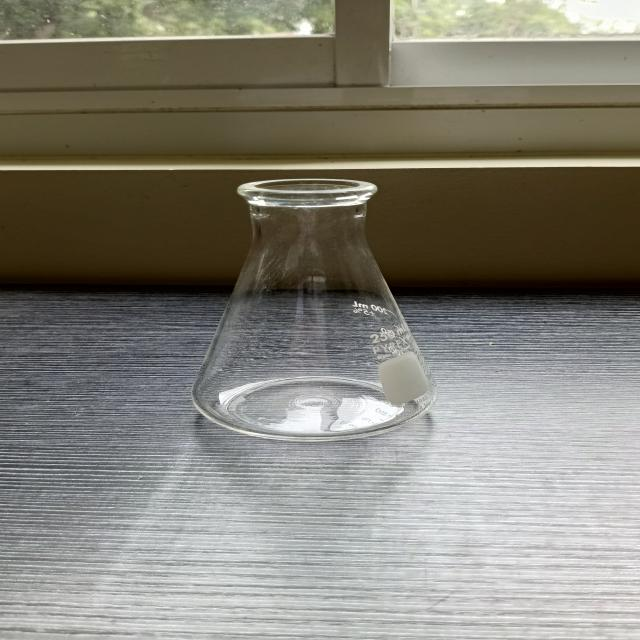erlenmeyer_flask: (171, 170, 444, 446)
